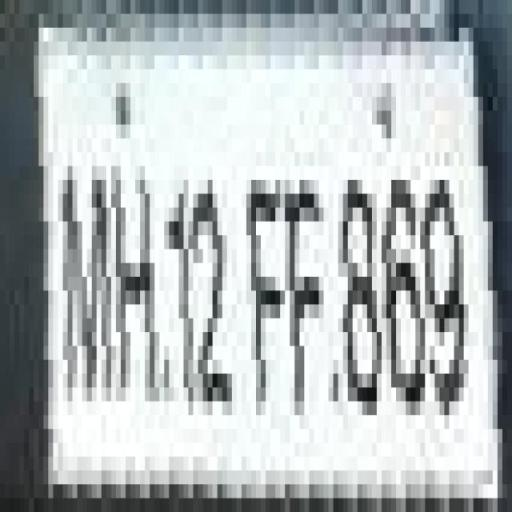number plate: (9, 13, 512, 484)
